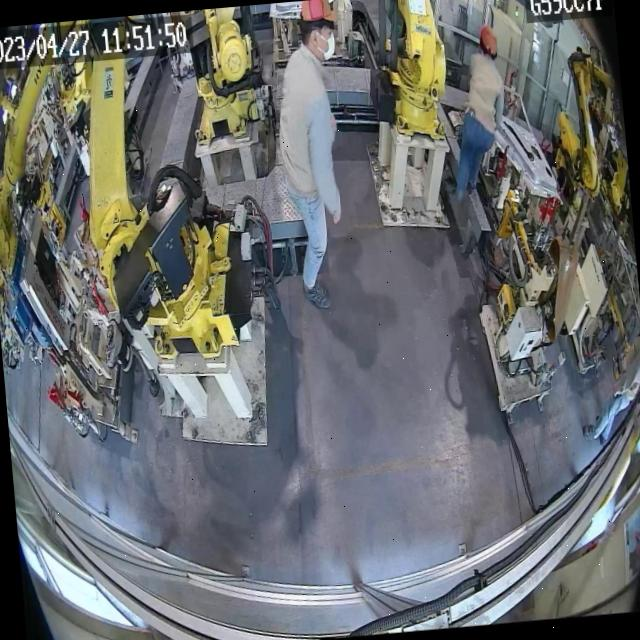Person: (266, 0, 360, 312), (432, 23, 513, 205)
